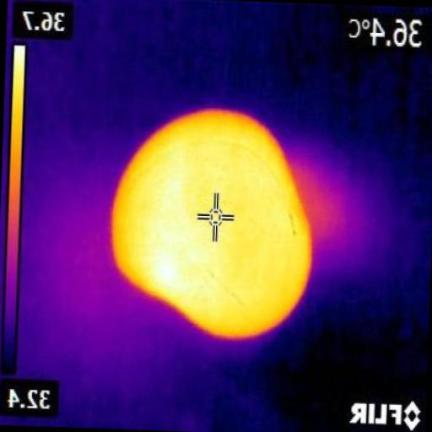mango: (112, 108, 311, 335)
